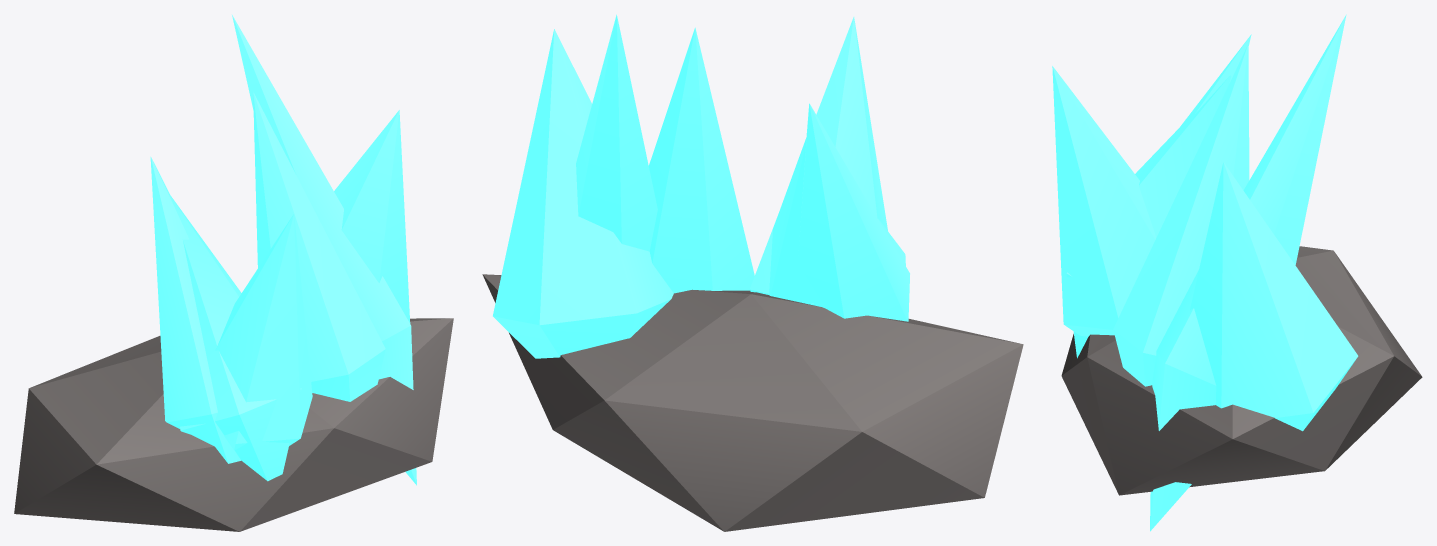
Rendered from crystal_staff.glb.
3 renders of one model, left to right at view 1: azimuth 30°, elevation 25°; view 2: azimuth 150°, elevation 25°; view 3: azimuth 270°, elevation 25°, orthographic. The views are drawn at different scales.
Visible parts, largest first — view 1: Body; view 2: Body; view 3: Body.
Boxes of the visible parts, x1,y1,x2,y2 form: Body: (14, 15, 453, 531); Body: (482, 14, 1023, 531); Body: (1052, 14, 1422, 531).
Bounding box in the file's own units: 1.17 × 1.1 × 0.7841.
